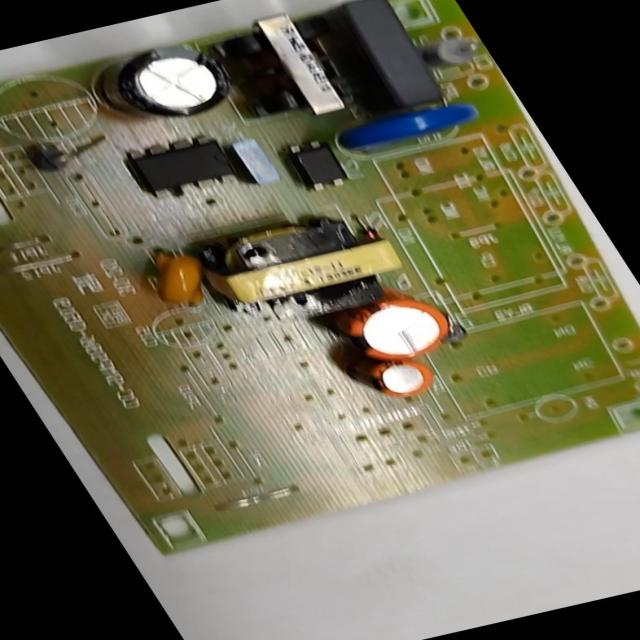Cap1: (329, 288, 463, 366)
Cap2: (362, 357, 440, 401)
Cap3: (90, 41, 243, 124)
MOSFET: (124, 133, 242, 201)
Mov: (342, 98, 486, 154)
Resistor: (419, 32, 493, 74)
Transformer: (186, 208, 414, 322), (206, 6, 370, 124)
